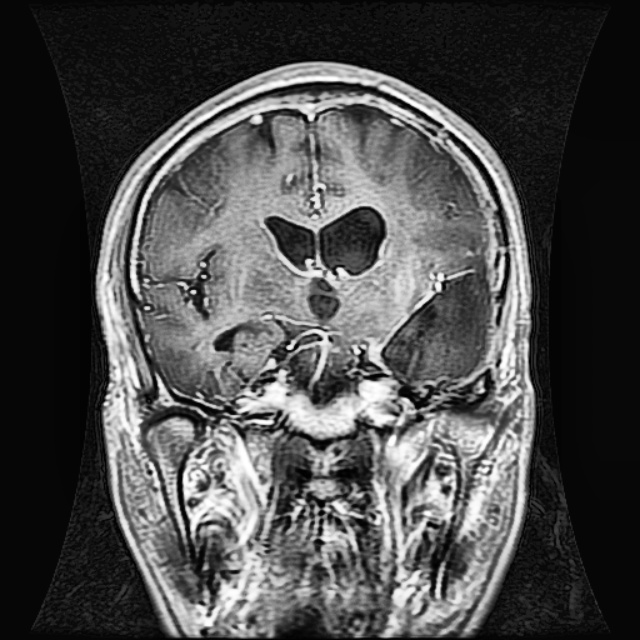Meningioma: (367, 245, 502, 403)
